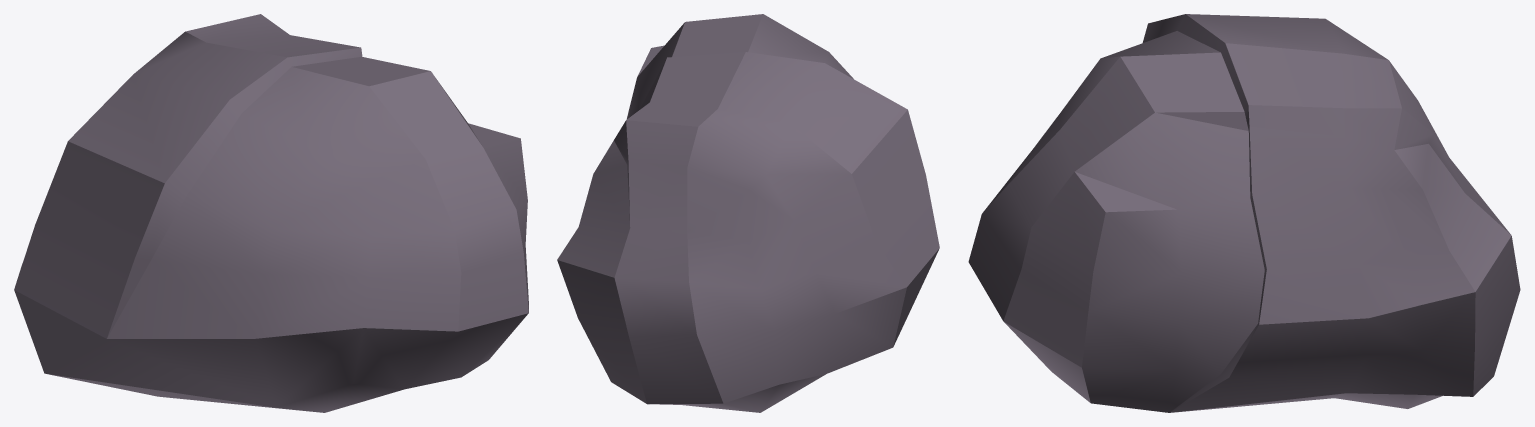
File: P_stone_12_LD.fbx
3 views of the same model, side by side, from view 1: azimuth 30°, elevation 25°; view 2: azimuth 150°, elevation 25°; view 3: azimuth 270°, elevation 25° (orthographic). The views are drawn at different scales.
Parts seen in each view (by area): view 1: P_stone_12; view 2: P_stone_12; view 3: P_stone_12.
Boxes of the visible parts, x1=… form: P_stone_12: x1=14, y1=14, x2=528, y2=412; P_stone_12: x1=557, y1=14, x2=939, y2=412; P_stone_12: x1=968, y1=14, x2=1520, y2=412.
Bounding box in the file's own units: 71.11 × 60.46 × 81.14.
1 material, 1 textured.
